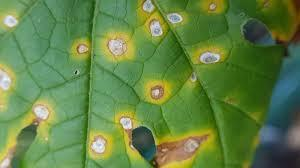leaf_spot: (4, 0, 277, 163)
